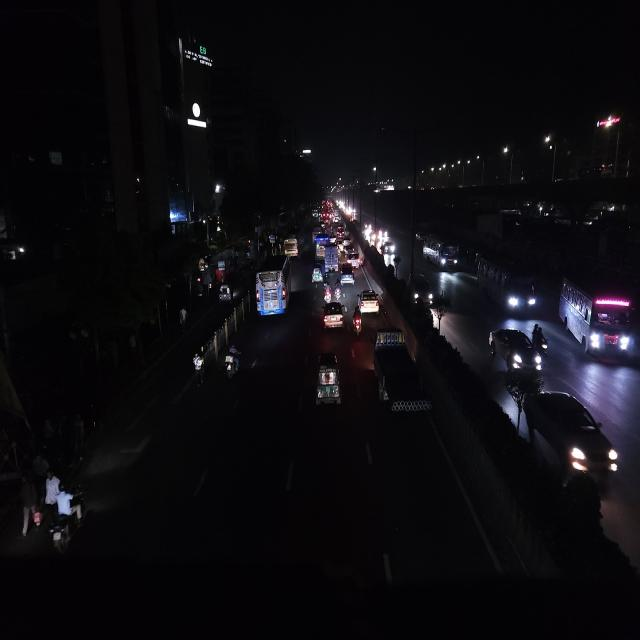bus: (557, 273, 638, 365), (372, 332, 432, 435), (475, 252, 539, 320), (254, 253, 296, 323), (429, 241, 458, 271), (282, 235, 301, 258), (314, 229, 330, 246)
car: (515, 386, 623, 490), (488, 325, 546, 377), (410, 273, 435, 307), (322, 299, 346, 332), (357, 288, 380, 314), (339, 263, 355, 286), (344, 247, 362, 267), (381, 242, 397, 258), (346, 256, 362, 270)
cng: (311, 348, 345, 416), (311, 262, 325, 286)
motorcycle: (32, 476, 87, 557), (190, 343, 214, 388), (223, 342, 243, 384), (532, 322, 550, 359), (351, 303, 363, 339), (389, 257, 397, 279)
truck: (372, 331, 431, 434), (321, 243, 340, 273)
